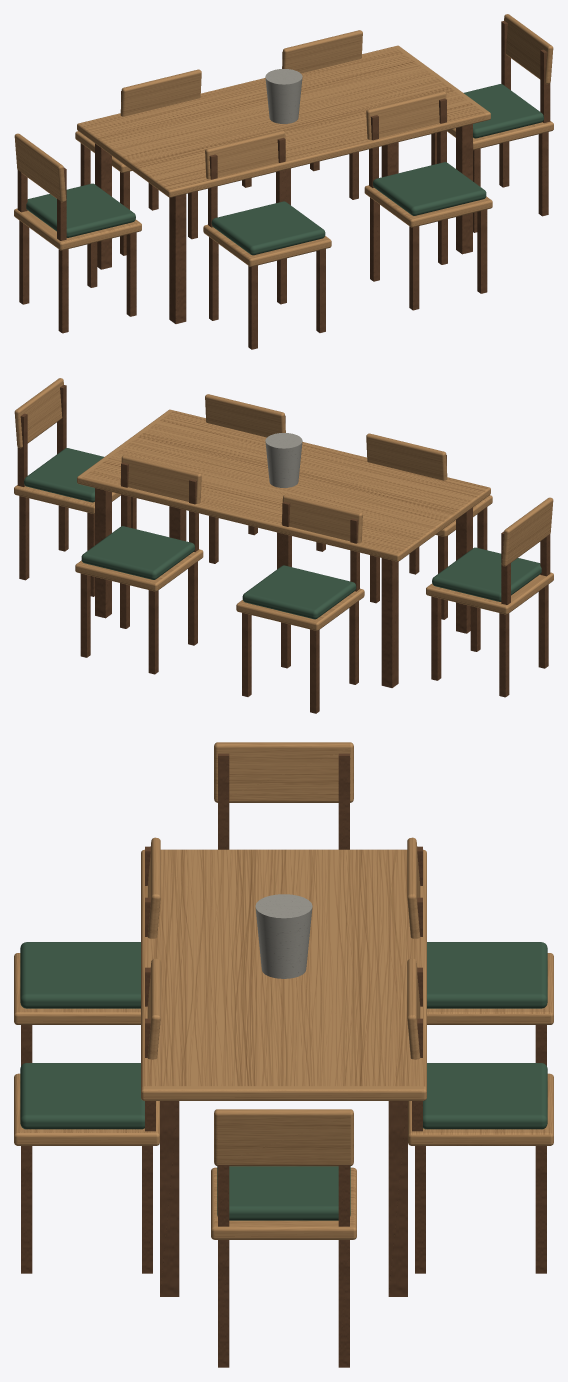
The model's file is noi-that-ban-an.glb.
3 renders of one model, top to bottom at view 1: azimuth 30°, elevation 25°; view 2: azimuth 150°, elevation 25°; view 3: azimuth 270°, elevation 25°, orthographic. The views are drawn at different scales.
Size of the model in its own units: 2.76 by 0.97 by 1.7.
4 materials, 3 textured.
